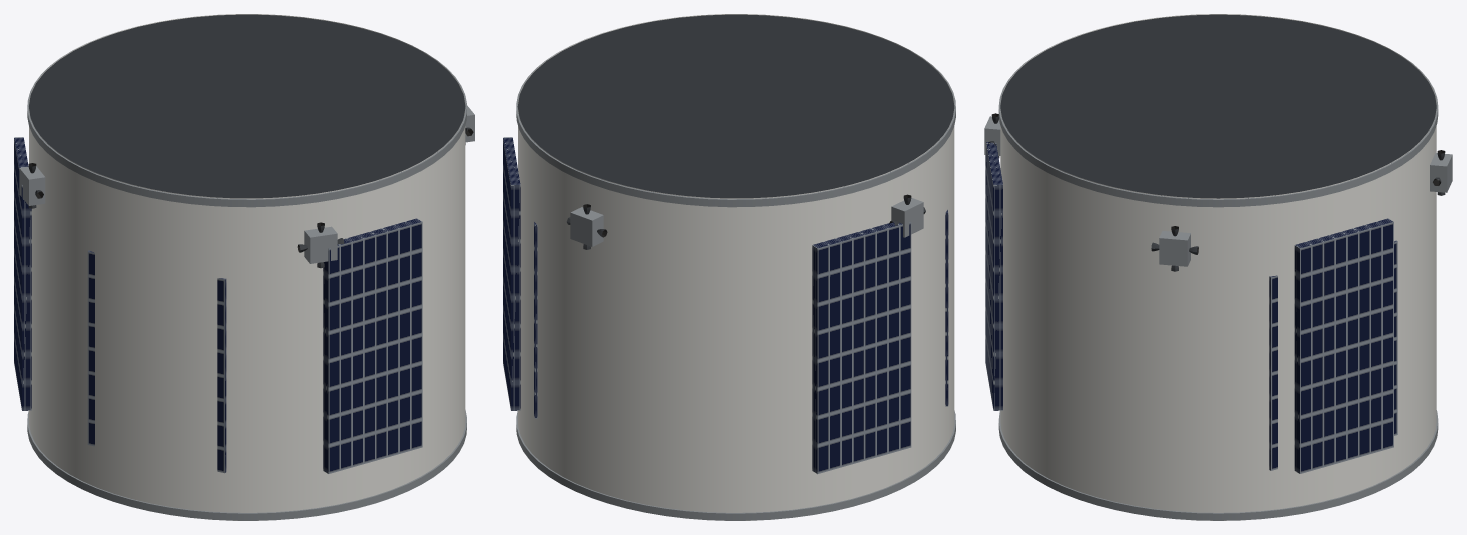
The model's file is shooting_star.glb.
3 views of the same model, side by side, from view 1: azimuth 30°, elevation 25°; view 2: azimuth 150°, elevation 25°; view 3: azimuth 270°, elevation 25° (orthographic).
Visible parts, largest first — view 1: body, slot_power; view 2: body, slot_power; view 3: body, slot_power.
Part boxes in pixels (x1,y1,x2,y2): body: [14, 14, 474, 520]; slot_power: [87, 250, 226, 473]; body: [503, 14, 955, 520]; slot_power: [534, 210, 948, 418]; body: [984, 14, 1452, 520]; slot_power: [1269, 240, 1397, 470].
Size of the model in its own units: 2.9 by 2.21 by 2.9.
10 materials, 1 textured.
